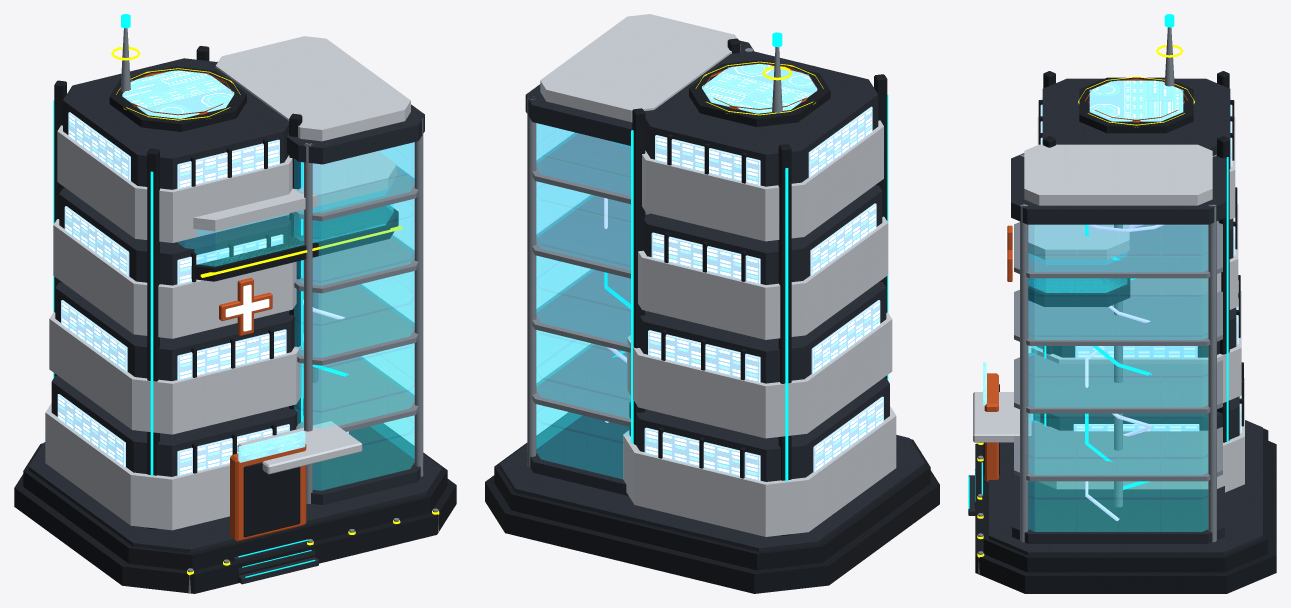
The model's file is bldg_04_r1_05.glb.
3 renders of one model, left to right at view 1: azimuth 30°, elevation 25°; view 2: azimuth 150°, elevation 25°; view 3: azimuth 270°, elevation 25°, orthographic. The views are drawn at different scales.
Visible parts, largest first — view 1: Bldg04_C05_aero_white, Bldg04_C05_carbon_slate, Bldg04_C05_gunmetal, Bldg04_C05_glass_cyan, Bldg04_C05_steel_machined, Bldg04_C05_window_lit, Bldg04_C05_marquee, Bldg04_C05_accent_orange, Bldg04_C05_led_cyan, Bldg04_C05_led_amber, Bldg04_C05_led_ice; view 2: Bldg04_C05_aero_white, Bldg04_C05_carbon_slate, Bldg04_C05_gunmetal, Bldg04_C05_glass_cyan, Bldg04_C05_steel_machined, Bldg04_C05_window_lit, Bldg04_C05_marquee, Bldg04_C05_led_cyan; view 3: Bldg04_C05_glass_cyan, Bldg04_C05_steel_machined, Bldg04_C05_carbon_slate, Bldg04_C05_aero_white, Bldg04_C05_gunmetal, Bldg04_C05_marquee, Bldg04_C05_window_lit, Bldg04_C05_led_cyan, Bldg04_C05_accent_orange, Bldg04_C05_led_uv, Bldg04_C05_led_amber.
Part boxes in pixels (bbox=[...]): Bldg04_C05_aero_white: bbox=[45, 36, 410, 530]; Bldg04_C05_carbon_slate: bbox=[28, 58, 442, 584]; Bldg04_C05_gunmetal: bbox=[14, 46, 456, 593]; Bldg04_C05_glass_cyan: bbox=[177, 142, 414, 490]; Bldg04_C05_steel_machined: bbox=[120, 28, 438, 593]; Bldg04_C05_window_lit: bbox=[57, 112, 289, 476]; Bldg04_C05_marquee: bbox=[122, 70, 305, 462]; Bldg04_C05_accent_orange: bbox=[123, 69, 306, 541]; Bldg04_C05_led_cyan: bbox=[53, 14, 348, 577]; Bldg04_C05_led_amber: bbox=[111, 47, 439, 575]; Bldg04_C05_led_ice: bbox=[225, 284, 269, 331]; Bldg04_C05_aero_white: bbox=[540, 14, 896, 536]; Bldg04_C05_carbon_slate: bbox=[499, 40, 925, 551]; Bldg04_C05_gunmetal: bbox=[485, 38, 939, 593]; Bldg04_C05_glass_cyan: bbox=[536, 123, 630, 478]; Bldg04_C05_steel_machined: bbox=[527, 47, 782, 467]; Bldg04_C05_window_lit: bbox=[644, 106, 883, 481]; Bldg04_C05_marquee: bbox=[702, 63, 817, 113]; Bldg04_C05_led_cyan: bbox=[604, 32, 888, 481]; Bldg04_C05_glass_cyan: bbox=[1028, 225, 1207, 531]; Bldg04_C05_steel_machined: bbox=[978, 27, 1222, 574]; Bldg04_C05_carbon_slate: bbox=[968, 78, 1262, 555]; Bldg04_C05_aero_white: bbox=[973, 116, 1244, 492]; Bldg04_C05_gunmetal: bbox=[975, 71, 1276, 593]; Bldg04_C05_marquee: bbox=[983, 80, 1183, 405]; Bldg04_C05_window_lit: bbox=[1031, 97, 1241, 432]; Bldg04_C05_led_cyan: bbox=[968, 14, 1228, 508]; Bldg04_C05_accent_orange: bbox=[984, 78, 1187, 481]; Bldg04_C05_led_uv: bbox=[1085, 224, 1164, 520]; Bldg04_C05_led_amber: bbox=[977, 45, 1194, 557].
Size of the model in its own units: 12 by 16.92 by 10.23.
12 materials, 12 textured.
